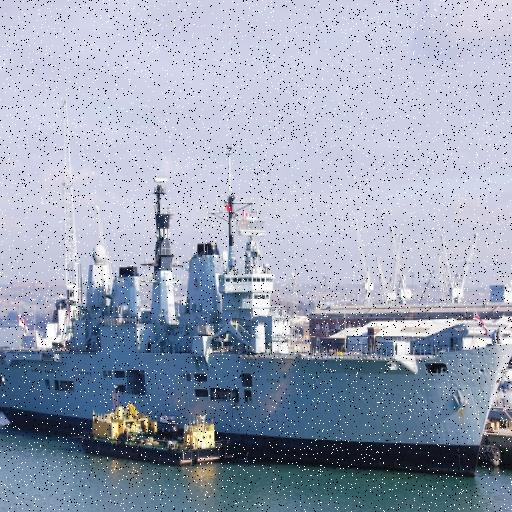Portanaves: (1, 152, 512, 486)
